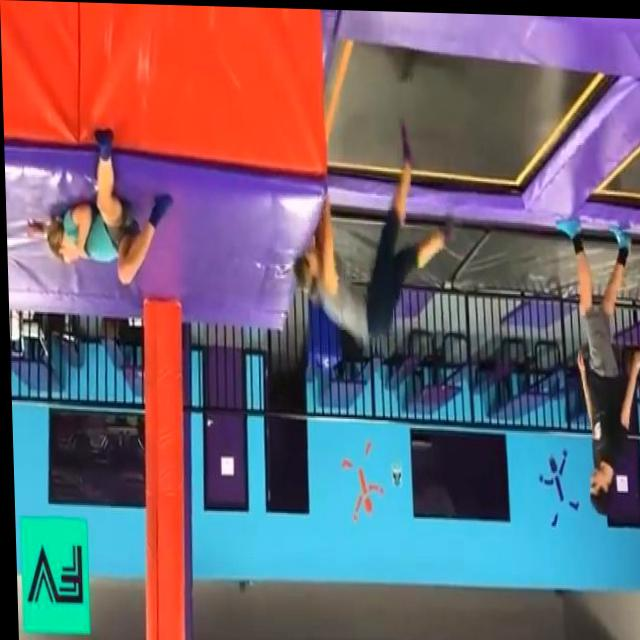fall: (293, 116, 456, 338), (31, 124, 170, 289)
